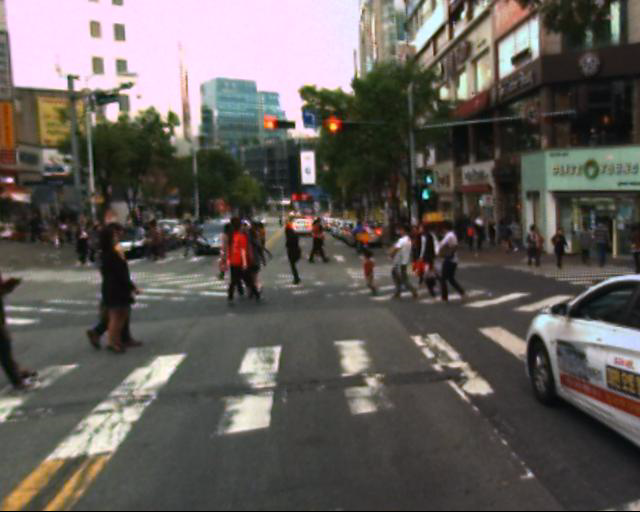person: (90, 226, 162, 355), (214, 215, 271, 318), (435, 217, 532, 277), (540, 220, 640, 274), (275, 219, 319, 292), (388, 223, 424, 307), (431, 220, 464, 310), (230, 220, 262, 309), (215, 217, 241, 284), (354, 249, 380, 302)
